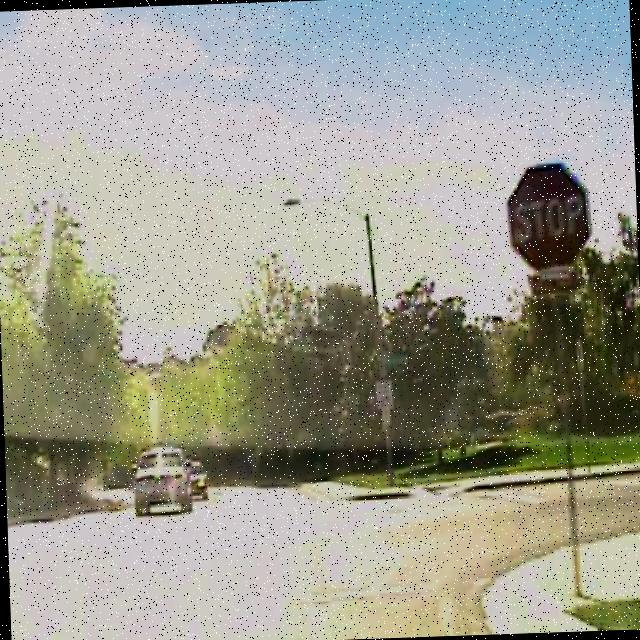Stop: (504, 160, 595, 270)
